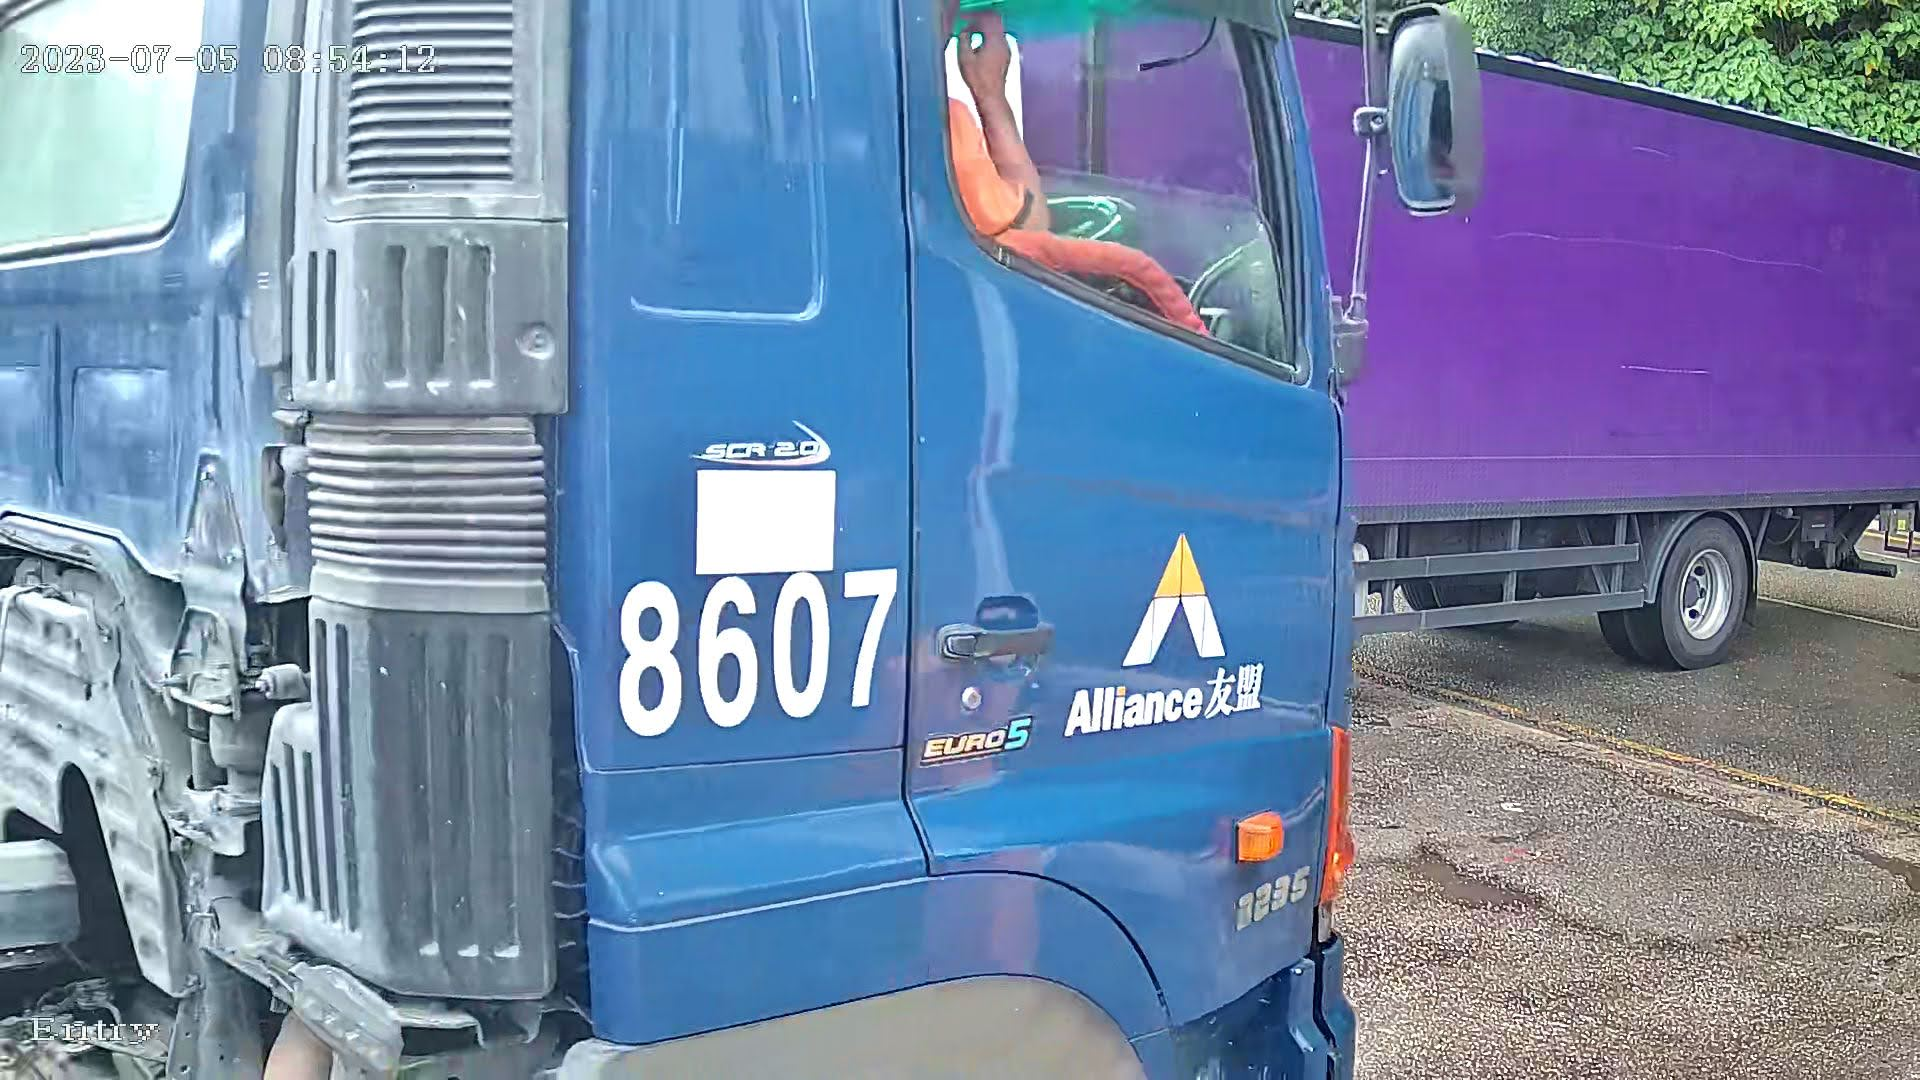truck: (21, 1, 1404, 1065), (1312, 16, 1912, 650)
